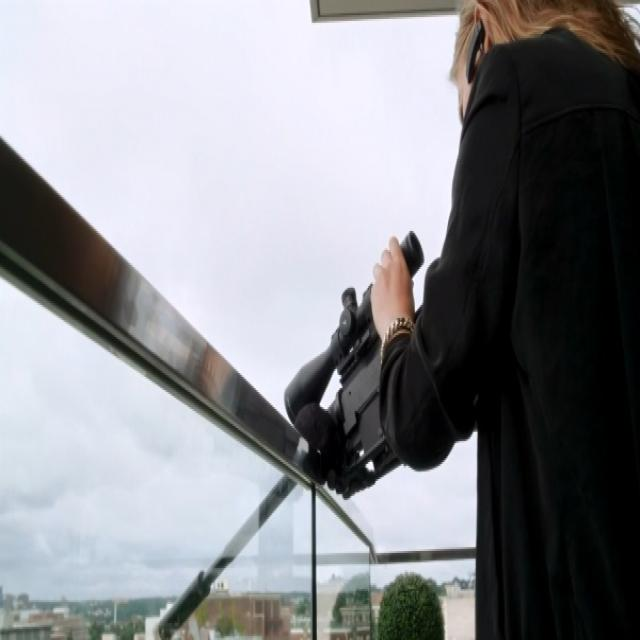rifle: (155, 221, 428, 640)
